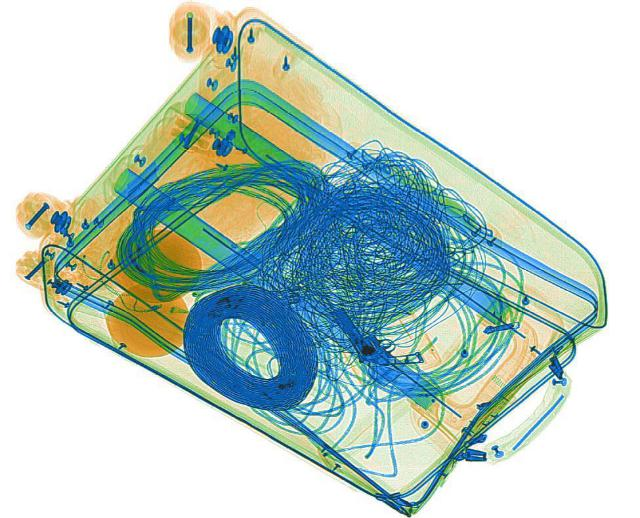Gun: (322, 292, 428, 379)
